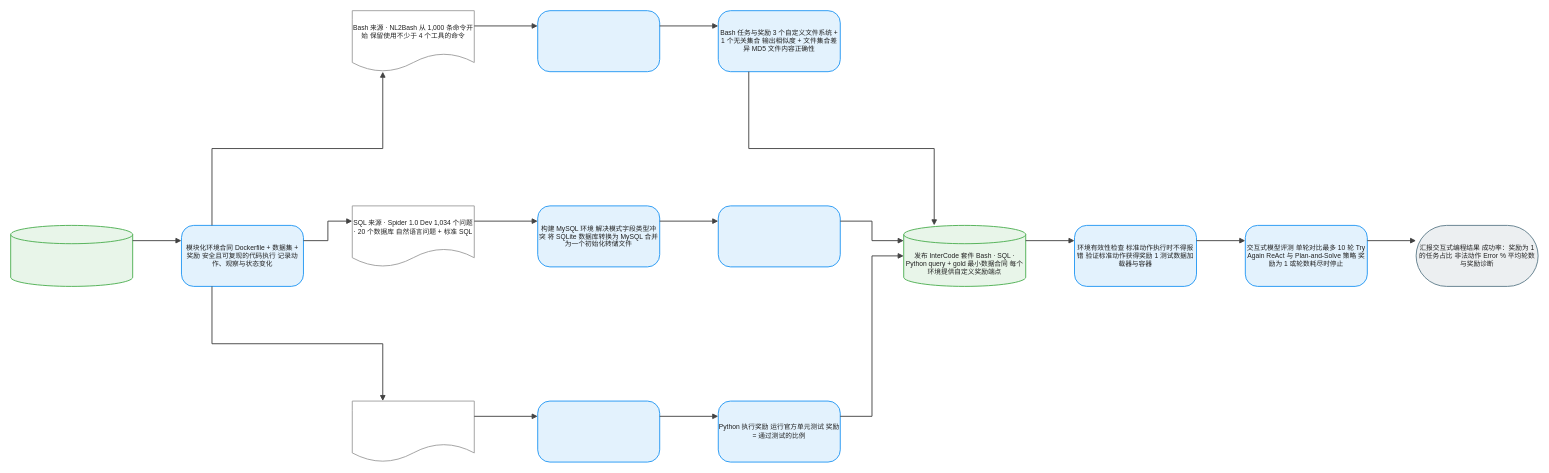
This 1549x473 diagram has some shape labels left out. The shapes that lost their labels are listed below. From the top down, each one's centre as x and y in pixels, then its label:
the point at 598,41: 落地并整理 Bash 任务 删除不支持或非 Linux 条目 补充文件路径并更新旧参数 200 条命令分为 4 个互斥集合
the point at 71,256: 将交互式编程定义为 POMDP 自然语言任务指令 代码 / 提交动作 → 执行反馈 保持状态并循环至提交
the point at 779,236: SQL 执行奖励 比较最后执行结果与标准结果 记录 IoU / Jaccard 以调整后的 Kendall τ 缩放排序得分
the point at 413,431: Python 来源 · MBPP 117 道代码生成题 题面 + 标准代码 + 单元测试
the point at 598,431: 构建 Python 解释器 Ubuntu Docker 环境 提交生成的函数 保留 MBPP 测试合同
